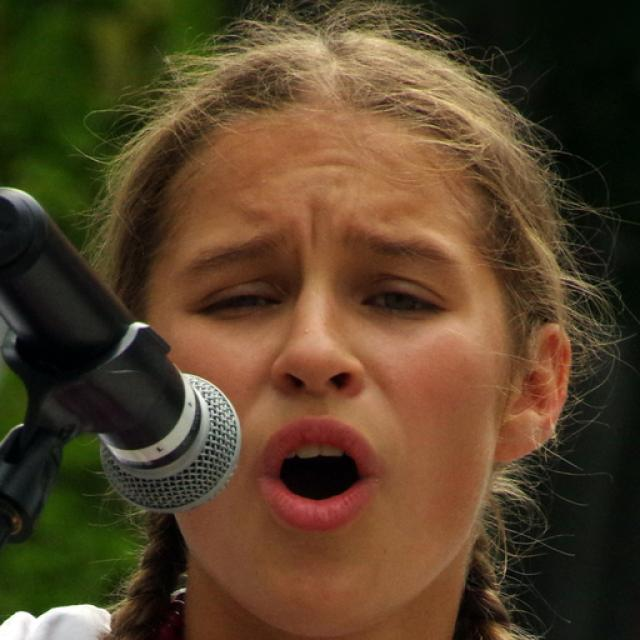sad: (133, 91, 512, 635)
